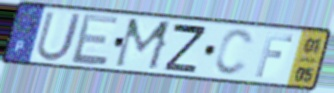C: (212, 28, 256, 79)
E: (69, 12, 121, 67)
F: (253, 31, 296, 79)
M: (111, 16, 176, 73)
U: (33, 10, 85, 64)
Z: (162, 22, 209, 75)
